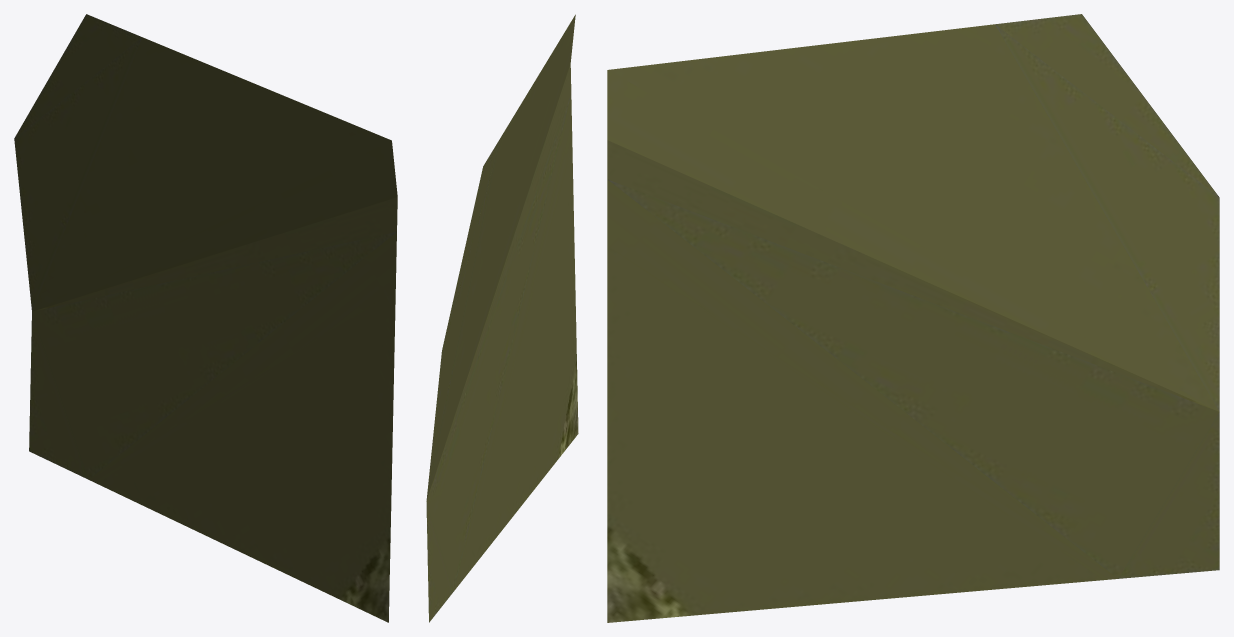
3 views of the same model, side by side, from view 1: azimuth 30°, elevation 25°; view 2: azimuth 150°, elevation 25°; view 3: azimuth 270°, elevation 25° (orthographic). The views are drawn at different scales.
Size of the model in its own units: 0.7545 by 2.95 by 2.95.
Materials: 2 (2 with a texture image).
